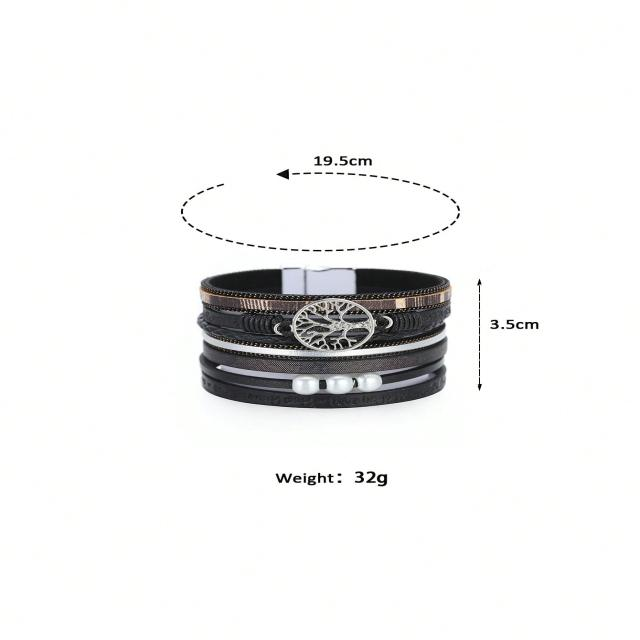bracelet: (136, 230, 594, 443)
